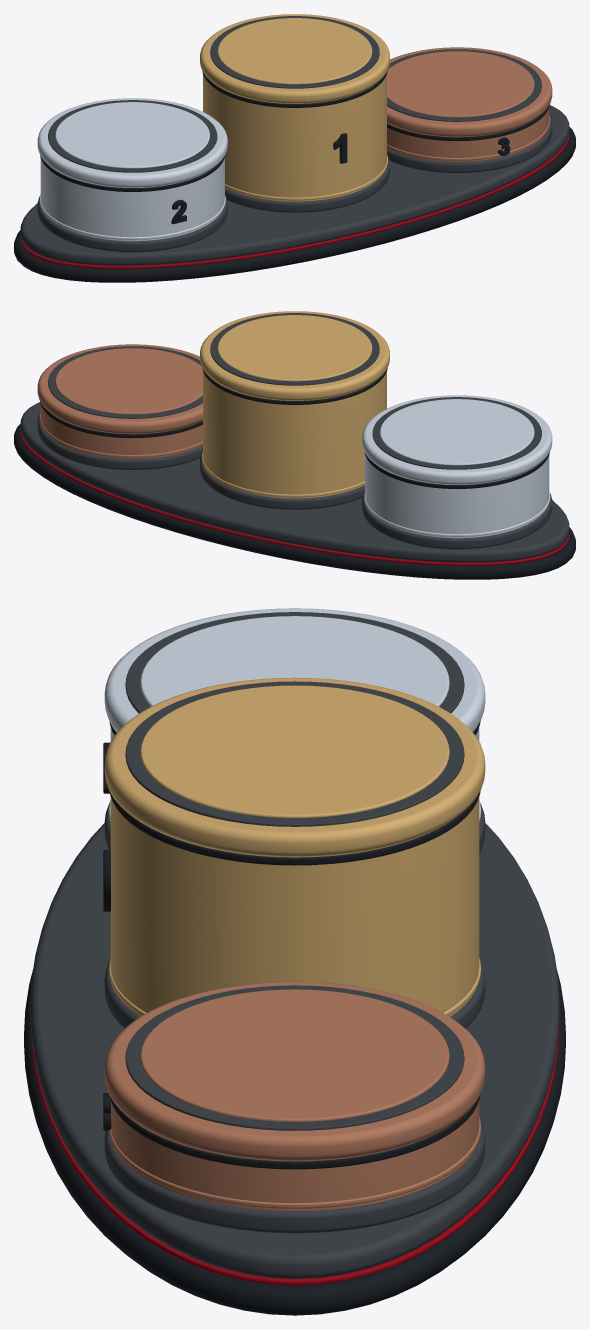
File: spin-podium-round-v2.glb
3 renders of one model, top to bottom at view 1: azimuth 30°, elevation 25°; view 2: azimuth 150°, elevation 25°; view 3: azimuth 270°, elevation 25°, orthographic. The views are drawn at different scales.
Parts seen in each view (by area): view 1: SM_Elliptical_Stage.001, SM_Step_1.001, SM_Step_2.001, SM_Elliptical_Shadow_Foot.001, SM_Step_Top_Medallion_2.001, SM_Step_Top_Medallion_1.001, SM_Step_Top_Medallion_3.001, SM_Step_Rolled_Cap_2.001, SM_Step_Rolled_Cap_1.001, SM_Step_Rolled_Cap_3.001, SM_Step_3.001, SM_Step_Foot_2.001 (+12 smaller); view 2: SM_Elliptical_Stage.001, SM_Step_1.001, SM_Step_2.001, SM_Elliptical_Shadow_Foot.001, SM_Step_Top_Medallion_2.001, SM_Step_Top_Medallion_1.001, SM_Step_Top_Medallion_3.001, SM_Step_Rolled_Cap_2.001, SM_Step_Rolled_Cap_1.001, SM_Step_Rolled_Cap_3.001, SM_Step_3.001, SM_Step_Foot_2.001 (+12 smaller); view 3: SM_Elliptical_Stage.001, SM_Step_1.001, SM_Step_Top_Medallion_1.001, SM_Step_Top_Medallion_3.001, SM_Elliptical_Shadow_Foot.001, SM_Step_Top_Medallion_2.001, SM_Step_Rolled_Cap_3.001, SM_Step_Rolled_Cap_1.001, SM_Step_3.001, SM_Step_Foot_3.001, SM_Step_Top_Recess_3.001, SM_Step_Top_Recess_1.001 (+7 smaller).
Part boxes in pixels (x1=…): SM_Elliptical_Stage.001: x1=20, y1=105, x2=569, y2=265; SM_Step_1.001: x1=203, y1=74, x2=386, y2=201; SM_Step_2.001: x1=40, y1=158, x2=224, y2=241; SM_Elliptical_Shadow_Foot.001: x1=14, y1=127, x2=575, y2=282; SM_Step_Top_Medallion_2.001: x1=55, y1=102, x2=209, y2=168; SM_Step_Top_Medallion_1.001: x1=217, y1=18, x2=372, y2=84; SM_Step_Top_Medallion_3.001: x1=387, y1=51, x2=534, y2=117; SM_Step_Rolled_Cap_2.001: x1=37, y1=98, x2=227, y2=187; SM_Step_Rolled_Cap_1.001: x1=200, y1=14, x2=389, y2=103; SM_Step_Rolled_Cap_3.001: x1=387, y1=47, x2=552, y2=136; SM_Step_3.001: x1=387, y1=107, x2=549, y2=161; SM_Step_Foot_2.001: x1=37, y1=196, x2=227, y2=252; SM_Elliptical_Stage.001: x1=20, y1=402, x2=569, y2=562; SM_Step_1.001: x1=203, y1=371, x2=386, y2=498; SM_Step_2.001: x1=365, y1=455, x2=549, y2=538; SM_Elliptical_Shadow_Foot.001: x1=14, y1=424, x2=575, y2=579; SM_Step_Top_Medallion_2.001: x1=380, y1=399, x2=534, y2=465; SM_Step_Top_Medallion_1.001: x1=217, y1=315, x2=372, y2=381; SM_Step_Top_Medallion_3.001: x1=55, y1=348, x2=202, y2=414; SM_Step_Rolled_Cap_2.001: x1=362, y1=395, x2=552, y2=484; SM_Step_Rolled_Cap_1.001: x1=200, y1=311, x2=389, y2=400; SM_Step_Rolled_Cap_3.001: x1=37, y1=344, x2=202, y2=433; SM_Step_3.001: x1=40, y1=404, x2=202, y2=458; SM_Step_Foot_2.001: x1=362, y1=493, x2=552, y2=549; SM_Elliptical_Stage.001: x1=30, y1=823, x2=559, y2=1278; SM_Step_1.001: x1=110, y1=797, x2=479, y2=1016; SM_Step_Top_Medallion_1.001: x1=140, y1=685, x2=449, y2=817; SM_Step_Top_Medallion_3.001: x1=140, y1=989, x2=449, y2=1121; SM_Elliptical_Shadow_Foot.001: x1=24, y1=969, x2=565, y2=1315; SM_Step_Top_Medallion_2.001: x1=140, y1=616, x2=449, y2=706; SM_Step_Rolled_Cap_3.001: x1=104, y1=981, x2=485, y2=1160; SM_Step_Rolled_Cap_1.001: x1=104, y1=677, x2=485, y2=856; SM_Step_3.001: x1=111, y1=1100, x2=479, y2=1211; SM_Step_Foot_3.001: x1=104, y1=1120, x2=485, y2=1233; SM_Step_Top_Recess_3.001: x1=125, y1=985, x2=464, y2=1130; SM_Step_Top_Recess_1.001: x1=125, y1=681, x2=464, y2=826.
Size of the model in its own units: 0.424 by 0.1124 by 0.1823.
